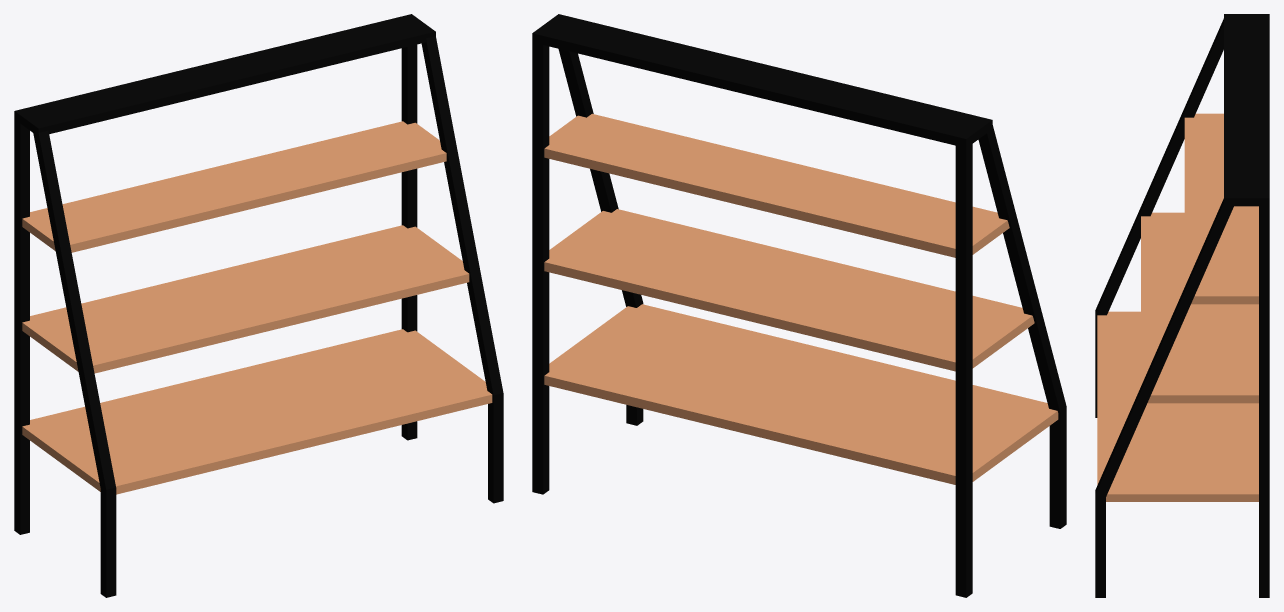
Rendered from Shelving.fbx.
3 views of the same model, side by side, from view 1: azimuth 30°, elevation 25°; view 2: azimuth 150°, elevation 25°; view 3: azimuth 270°, elevation 25° (orthographic). The views are drawn at different scales.
Visible parts, largest first — view 1: Cube; view 2: Cube; view 3: Cube.
Boxes of the visible parts, left/top/right/bottom form: Cube: left=14, top=14, right=503, bottom=597; Cube: left=532, top=14, right=1066, bottom=597; Cube: left=1095, top=14, right=1269, bottom=597.
Bounding box in the file's own units: 200 × 202 × 80.
